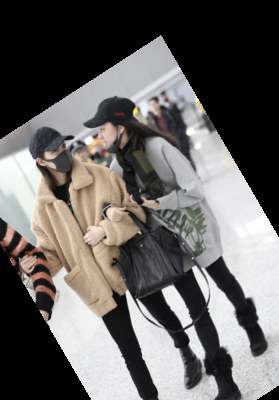mask_weared_incorrect: (81, 97, 155, 157)
